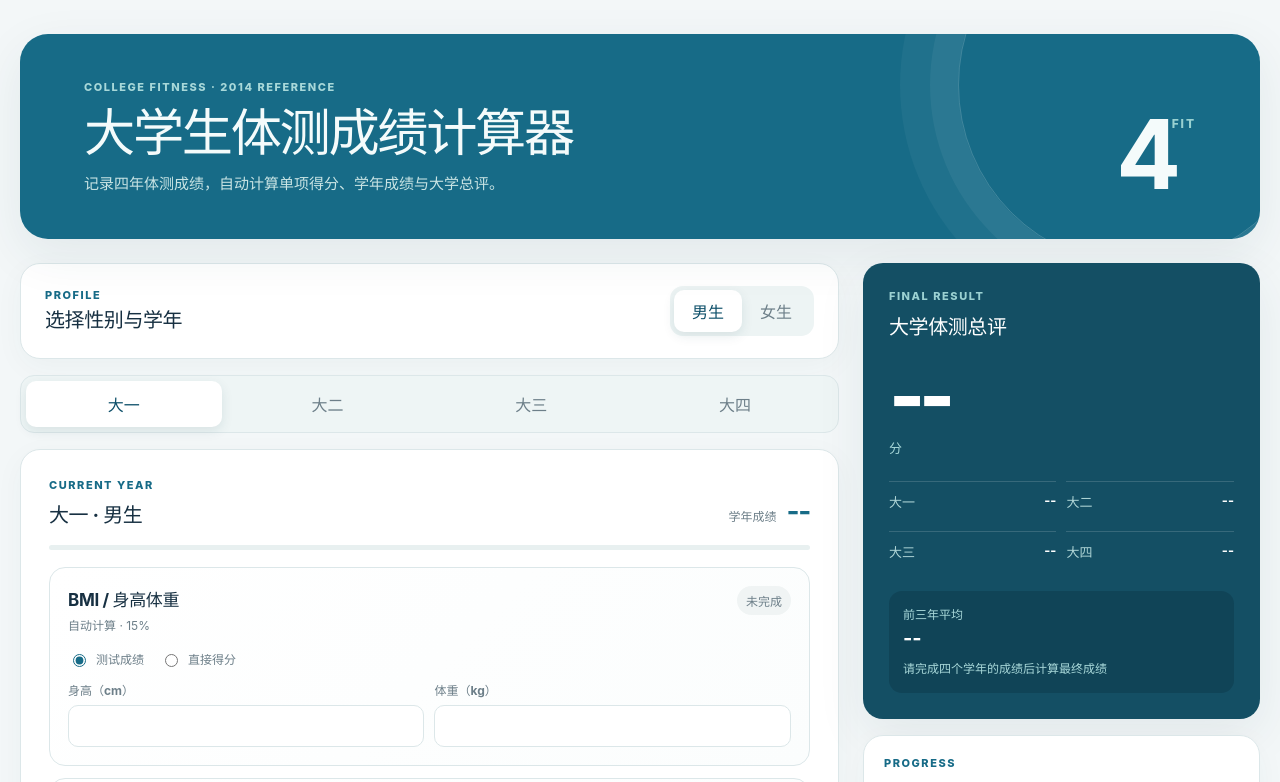
Test: fitness calculator interface › switches the event set with gender and supports per-event direct-score mode
Click the button "女生" at point(776, 311), box [742,290,810,332]
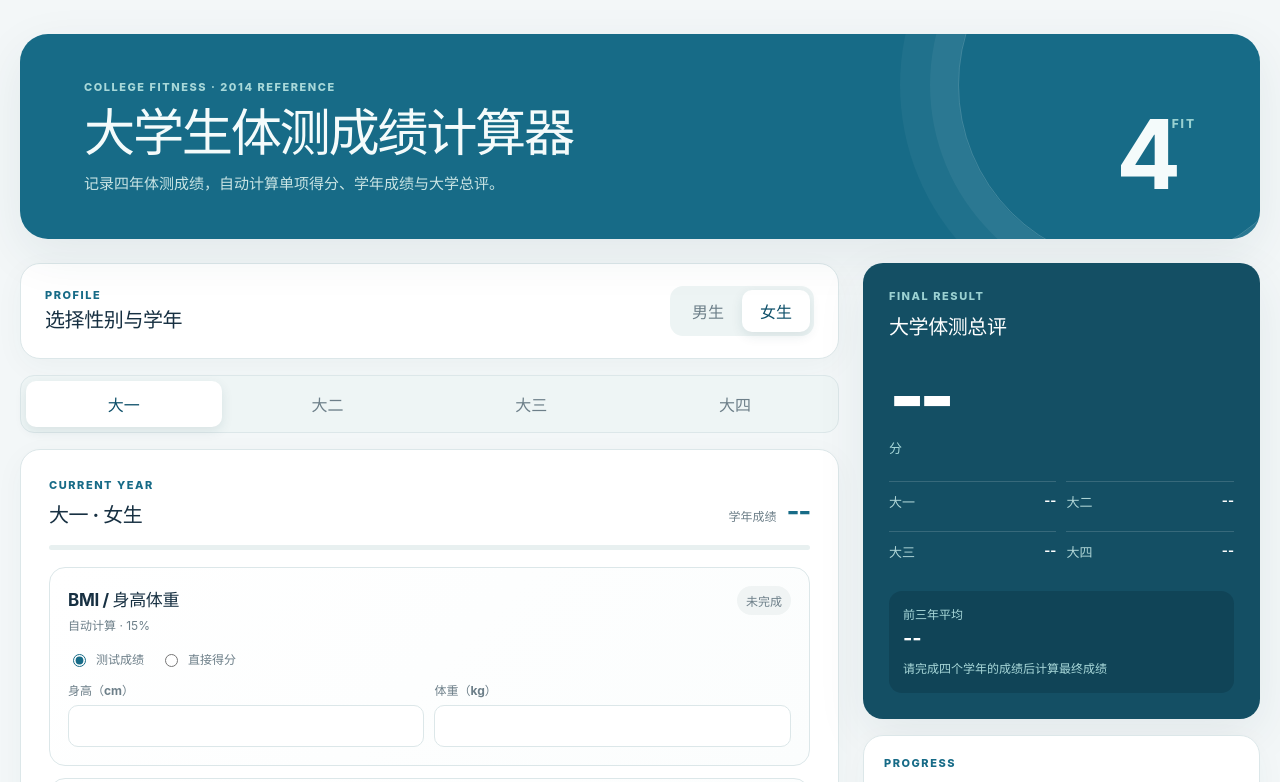
Click the radio button labelled "直接得分" at point(172, 660), box [165,654,178,666]
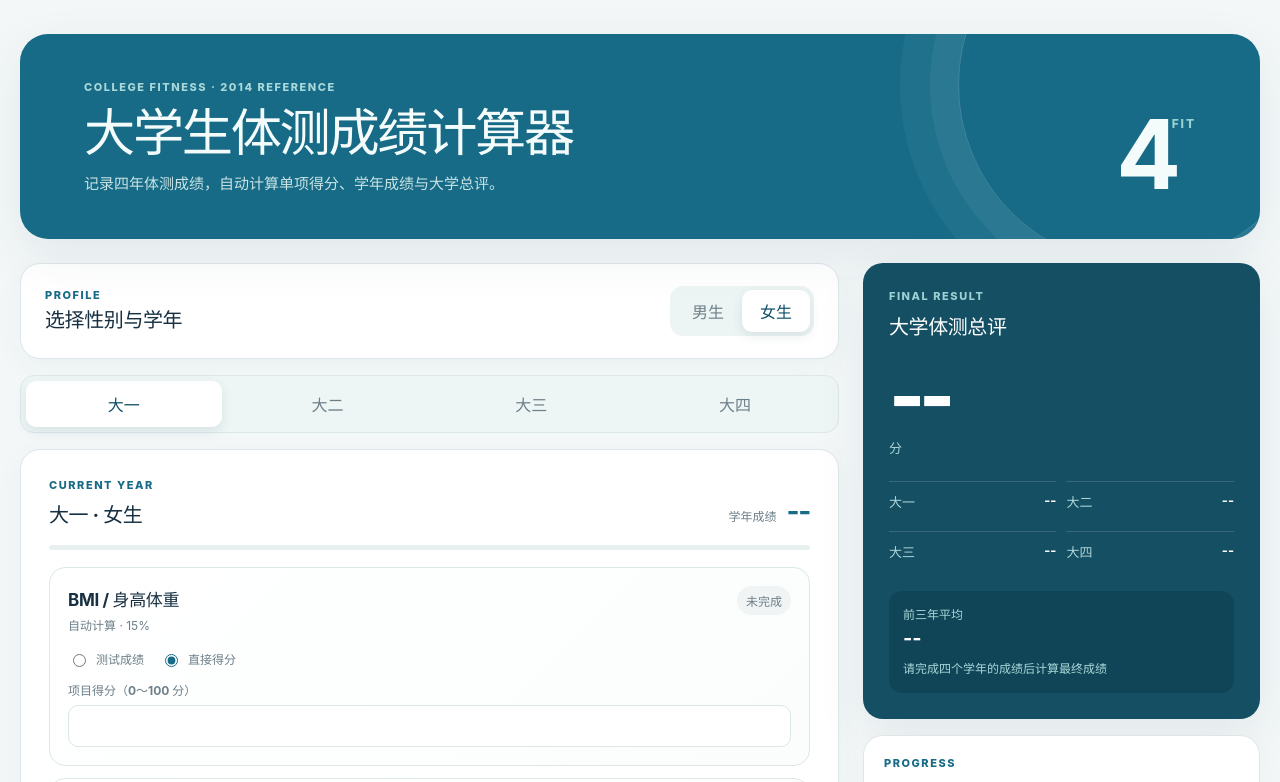
Result: the number field labelled "项目得分" is shown at [68,705,791,747]
